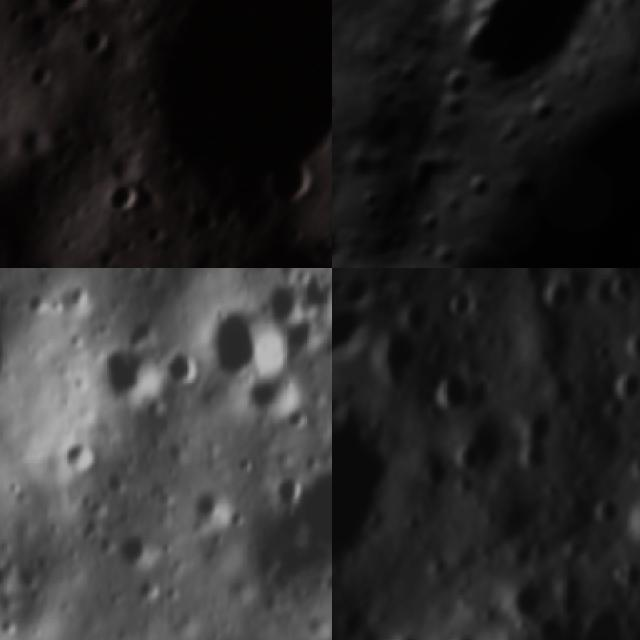crater: (69, 0, 332, 266), (407, 541, 640, 640), (426, 0, 597, 111), (332, 411, 409, 580), (206, 304, 294, 384), (86, 336, 166, 413), (0, 106, 69, 179), (254, 150, 324, 220), (424, 358, 490, 427), (290, 452, 332, 557), (0, 270, 26, 438), (94, 167, 158, 233), (395, 141, 455, 207), (366, 321, 428, 384), (108, 525, 168, 584), (65, 17, 122, 75), (10, 49, 67, 106), (509, 394, 566, 451), (503, 566, 558, 624), (244, 276, 306, 325), (411, 438, 463, 496), (186, 476, 241, 530), (411, 224, 474, 268), (249, 230, 320, 268), (531, 268, 582, 319), (26, 0, 100, 35), (398, 286, 445, 336), (583, 485, 629, 536), (451, 162, 499, 208), (440, 280, 486, 328), (511, 434, 558, 480), (447, 429, 493, 476), (616, 483, 640, 554), (61, 434, 103, 474), (606, 359, 640, 405), (297, 268, 332, 312), (616, 310, 640, 362), (332, 210, 352, 268), (409, 205, 441, 241), (340, 367, 363, 414), (378, 620, 430, 640), (623, 50, 640, 103), (163, 252, 219, 268), (332, 74, 348, 120)
